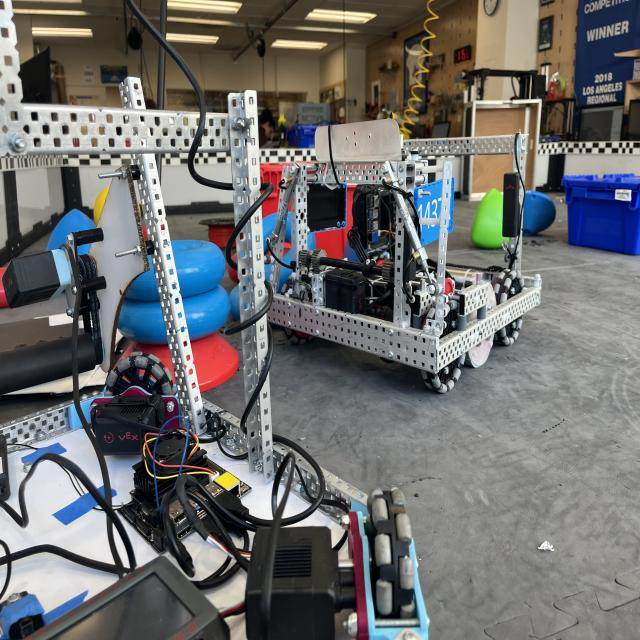Blue-Ring: (126, 240, 225, 312), (119, 285, 230, 345), (237, 212, 315, 289)
